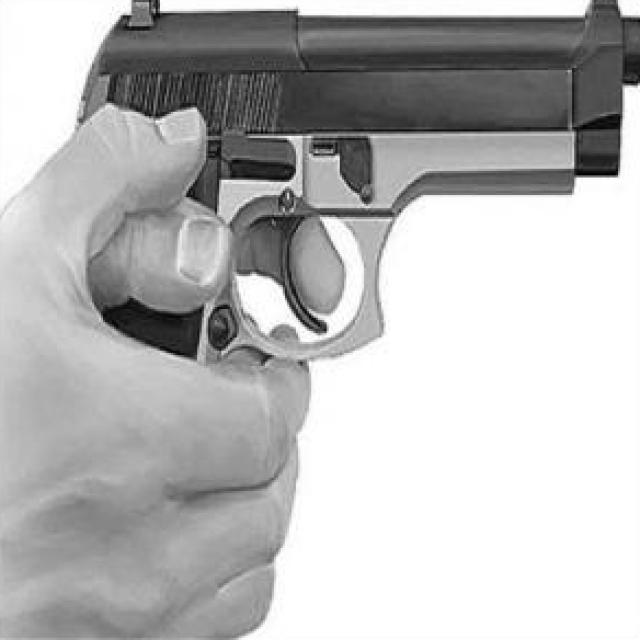pistol: (81, 0, 640, 377)
